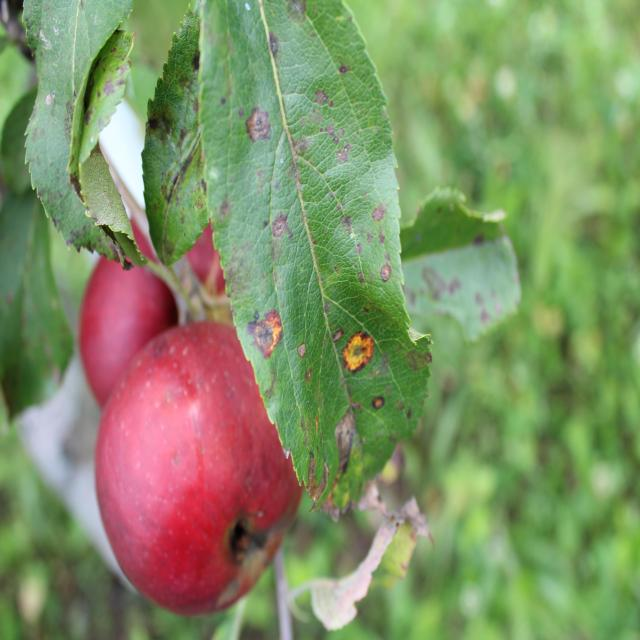Rust: (240, 60, 284, 162), (230, 297, 291, 370), (267, 191, 297, 283), (333, 330, 388, 376)
